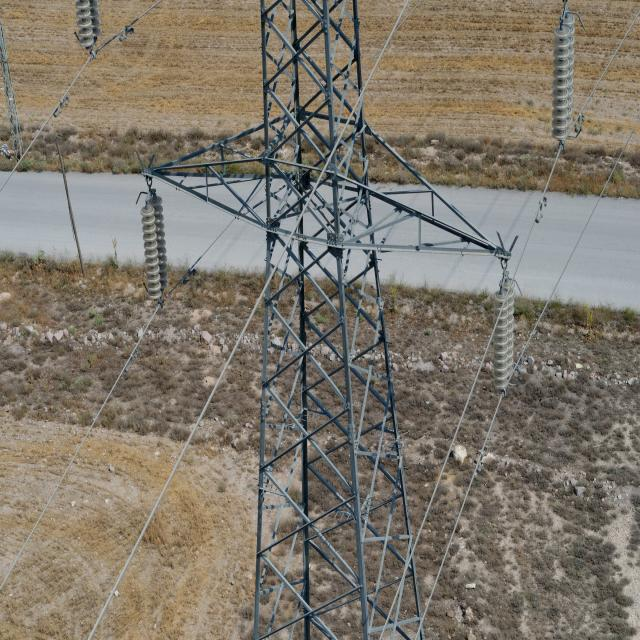voltage_line: (194, 0, 435, 634)
